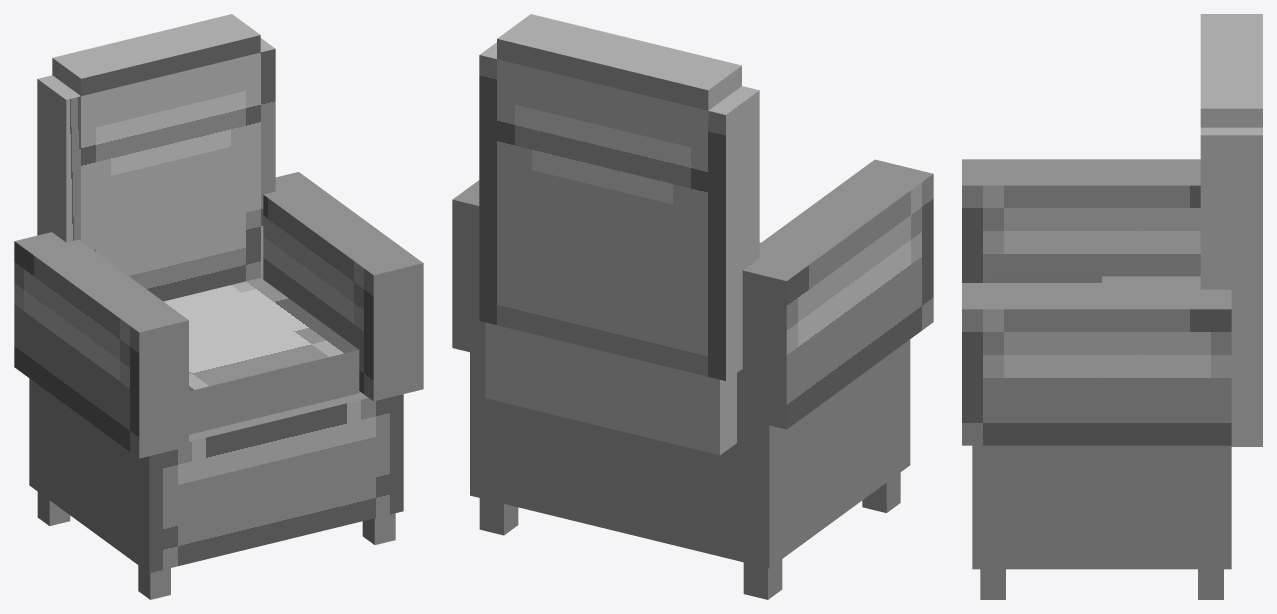
The model's file is comfy_chair.glb.
3 renders of one model, left to right at view 1: azimuth 30°, elevation 25°; view 2: azimuth 150°, elevation 25°; view 3: azimuth 270°, elevation 25°, orthographic. The views are drawn at different scales.
Visible parts, largest first — view 1: comfy_chair_Upholstered_Shell, Armrest_Overlay_Left, Armrest_Overlay_Right, Seat; view 2: comfy_chair_Upholstered_Shell, Armrest_Overlay_Left, Armrest_Overlay_Right; view 3: comfy_chair_Upholstered_Shell, Armrest_Overlay_Right, Armrest_Overlay_Left, Seat.
Boxes of the visible parts, <box> form: comfy_chair_Upholstered_Shell: <box>29,14,403,599</box>; Armrest_Overlay_Left: <box>14,232,188,458</box>; Armrest_Overlay_Right: <box>263,172,423,401</box>; Seat: <box>163,278,359,434</box>; comfy_chair_Upholstered_Shell: <box>470,14,910,599</box>; Armrest_Overlay_Left: <box>737,159,933,429</box>; Armrest_Overlay_Right: <box>452,180,485,355</box>; comfy_chair_Upholstered_Shell: <box>972,14,1262,599</box>; Armrest_Overlay_Right: <box>962,283,1231,445</box>; Armrest_Overlay_Left: <box>962,159,1200,282</box>; Seat: <box>988,276,1200,282</box>.
Bounding box in the file's own units: 0.684 × 1.01 × 0.58.
Materials: 2 (2 with a texture image).
